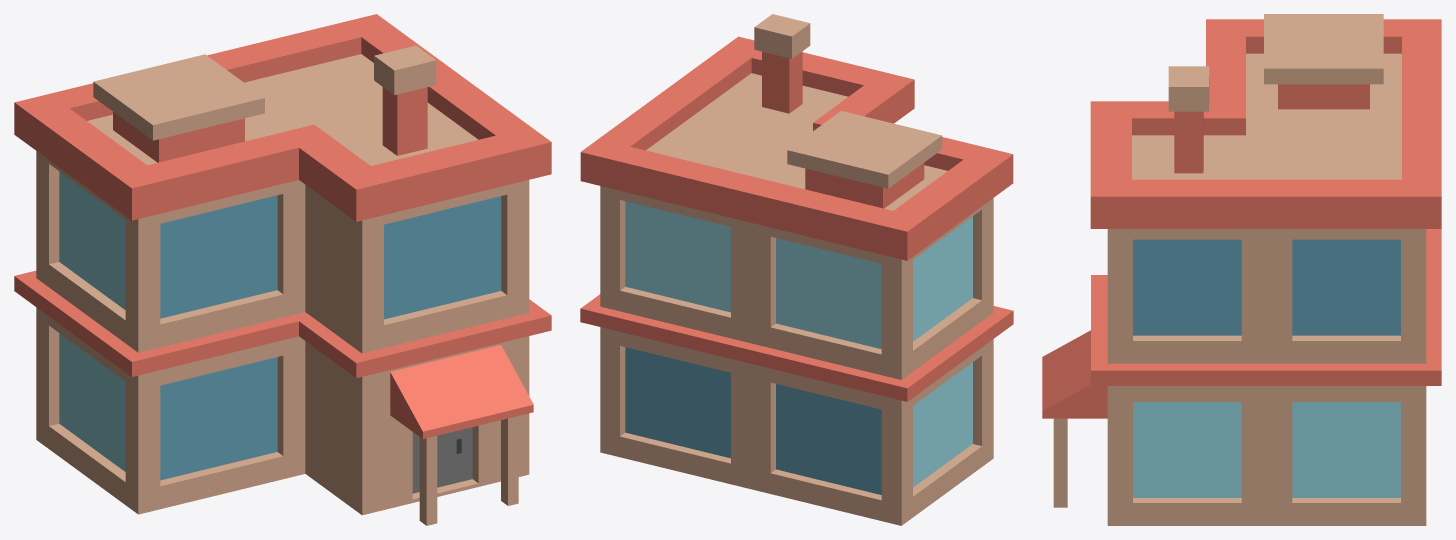
Rendered from House 3.2.fbx.
3 renders of one model, left to right at view 1: azimuth 30°, elevation 25°; view 2: azimuth 150°, elevation 25°; view 3: azimuth 270°, elevation 25°, orthographic. The views are drawn at different scales.
Visible parts, largest first — view 1: House_Type3_2; view 2: House_Type3_2; view 3: House_Type3_2.
Boxes of the visible parts, x1,y1,x2,y2 form: House_Type3_2: (14, 14, 551, 525); House_Type3_2: (580, 14, 1013, 525); House_Type3_2: (1042, 14, 1441, 525).
Size of the model in its own units: 664 by 713 by 632.
